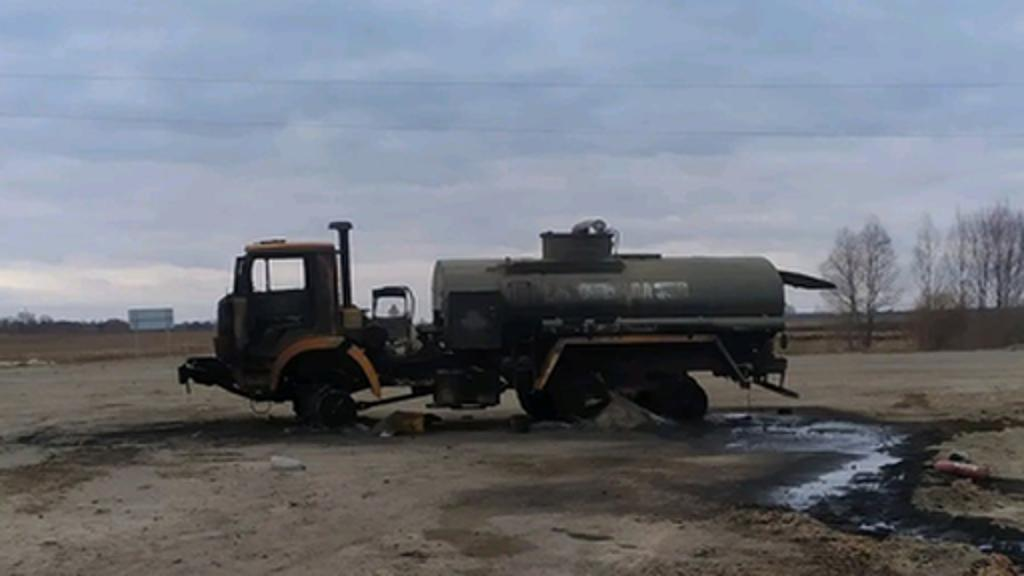TRUCK: (170, 214, 818, 446)
